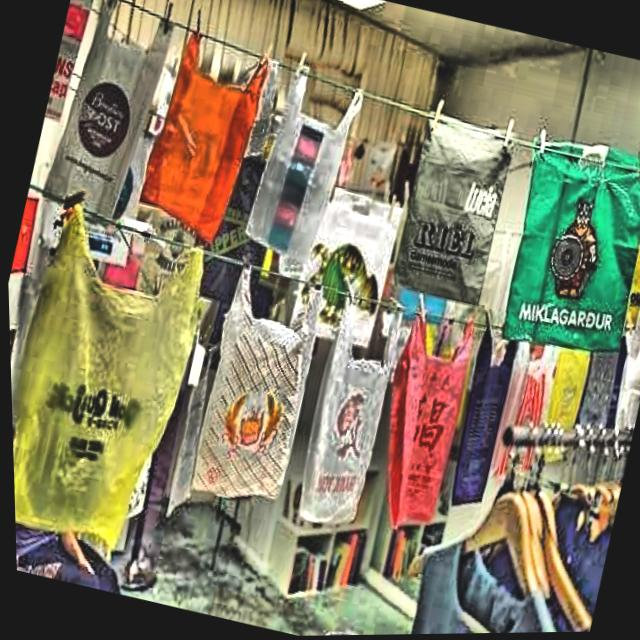Plastic: (4, 174, 228, 576), (173, 240, 342, 516), (476, 101, 640, 372), (373, 77, 537, 320), (134, 9, 282, 254), (25, 0, 178, 232), (278, 284, 415, 541), (236, 44, 374, 275)
